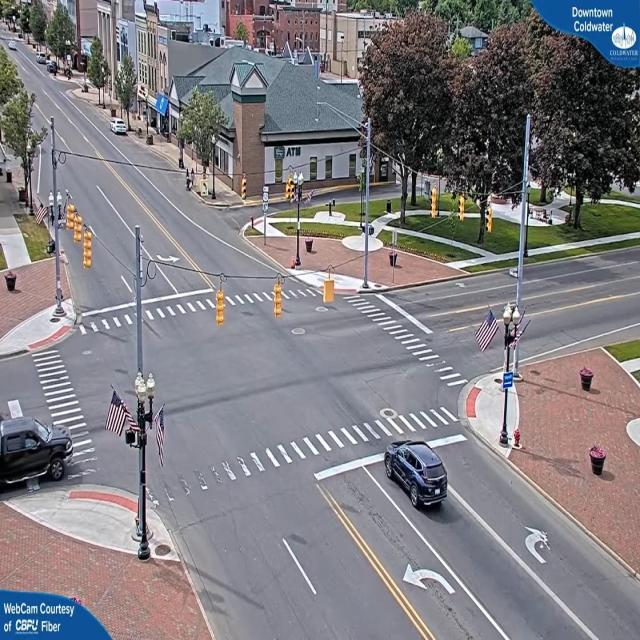car: (0, 406, 56, 491), (385, 441, 450, 509), (112, 121, 130, 138)
